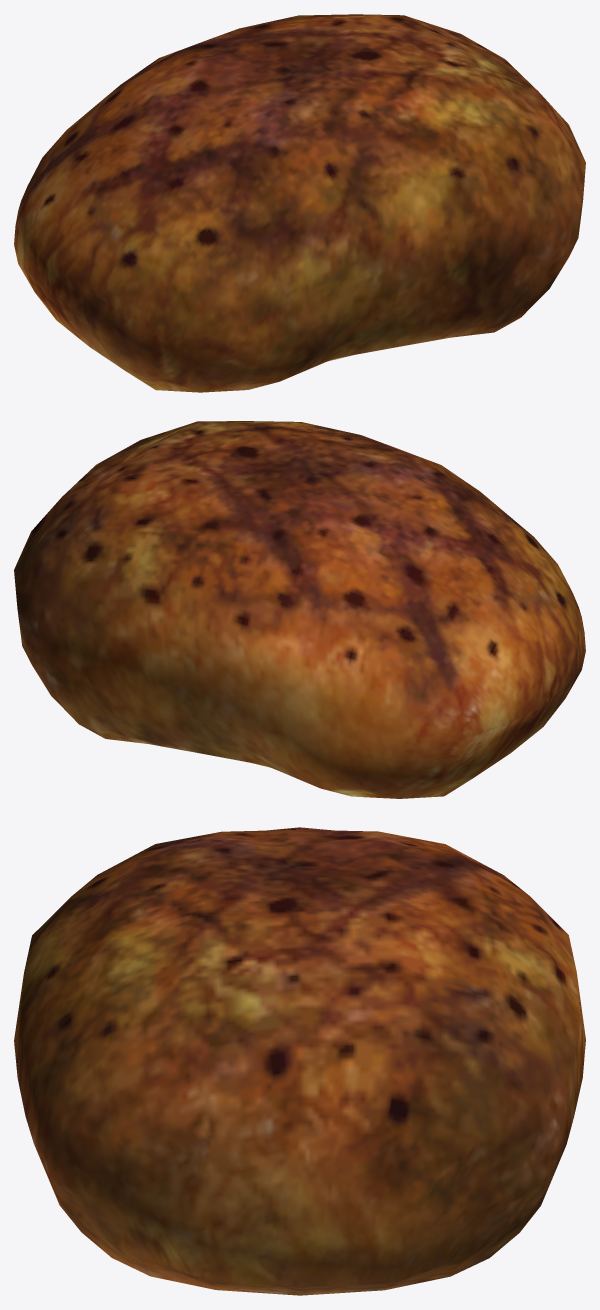
Rendered from bun.dae.
3 renders of one model, top to bottom at view 1: azimuth 30°, elevation 25°; view 2: azimuth 150°, elevation 25°; view 3: azimuth 270°, elevation 25°, orthographic. The views are drawn at different scales.
Visible parts, largest first — view 1: bun; view 2: bun; view 3: bun.
Part boxes in pixels (x1,y1,x2,y2): bun: (14, 14, 585, 392); bun: (14, 421, 585, 798); bun: (14, 827, 585, 1295).
Size of the model in its own units: 0.2478 by 0.1262 by 0.1966.
